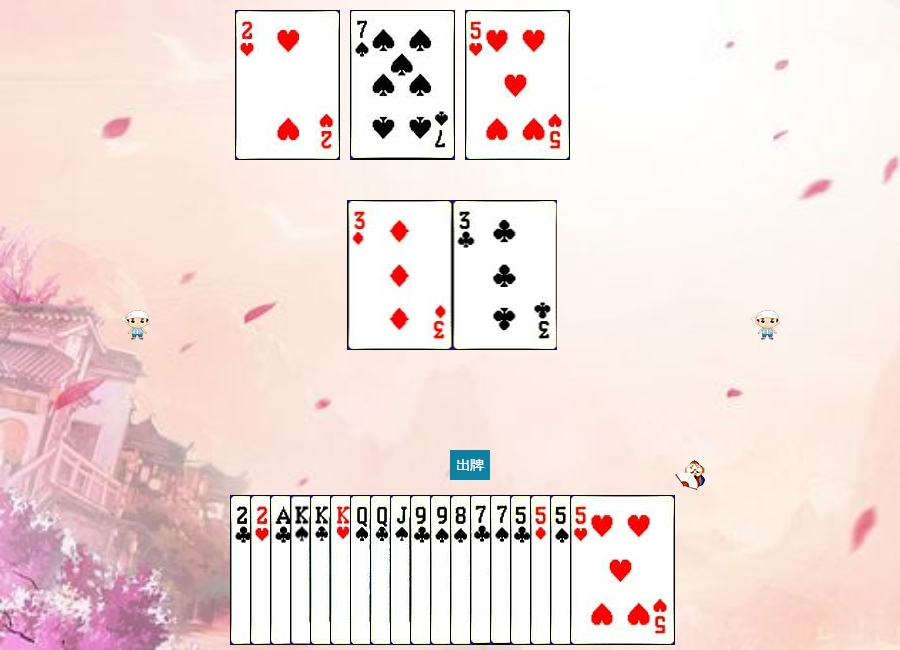11~4: (390, 495, 495, 645)
12~2: (370, 495, 475, 645)
12~4: (350, 495, 455, 645)
13~2: (310, 495, 415, 645)
13~3: (330, 495, 435, 645)
13~4: (290, 495, 395, 645)
14~2: (270, 495, 375, 645)
15~2: (230, 495, 335, 645)
15~3: (235, 10, 340, 160), (250, 495, 355, 645)
3~1: (348, 200, 453, 350)
3~2: (453, 200, 558, 350)
5~1: (530, 495, 635, 645)
5~2: (510, 495, 615, 645)
5~3: (465, 10, 570, 160), (570, 495, 675, 645)
5~4: (550, 495, 655, 645)
7~2: (470, 495, 575, 645)
7~4: (350, 10, 455, 160), (490, 495, 595, 645)
8~4: (450, 495, 555, 645)
9~2: (410, 495, 515, 645)
9~4: (430, 495, 535, 645)
